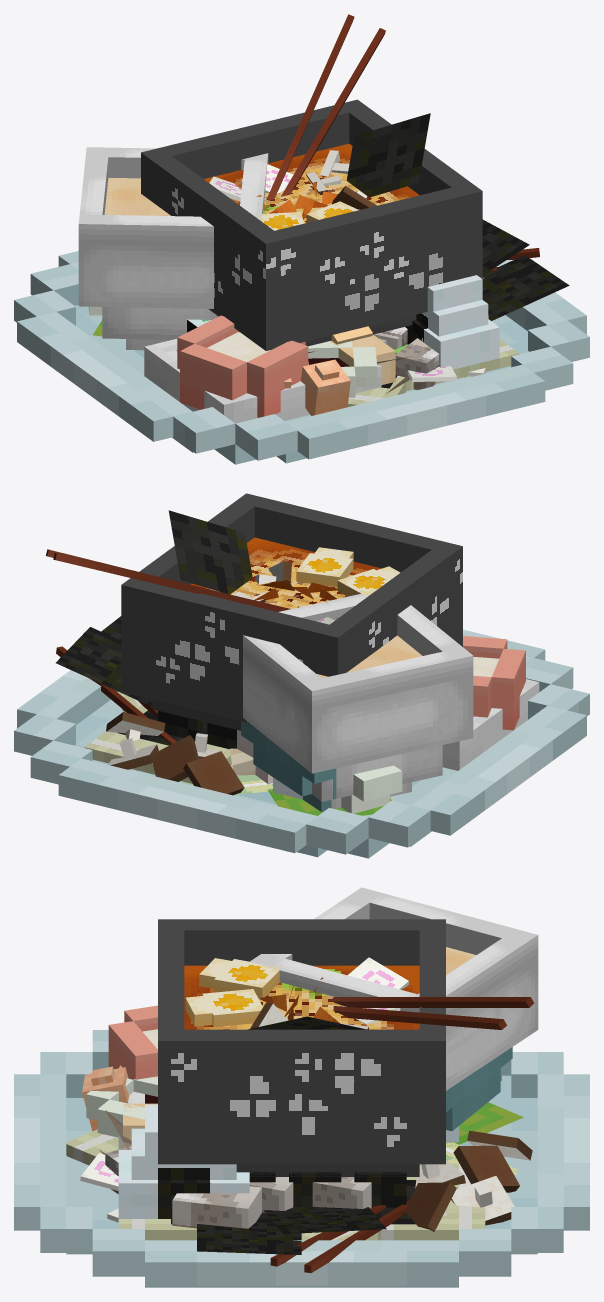
File: Food.gltf
3 views of the same model, one above another, from view 1: azimuth 30°, elevation 25°; view 2: azimuth 150°, elevation 25°; view 3: azimuth 270°, elevation 25° (orthographic). The views are drawn at different scales.
Visible parts, largest first — view 1: cube (×37), seaweed (×3), bambooMat (×4), naruto; view 2: cube (×41), seaweed (×3), bambooMat (×3), noodles; view 3: cube (×53), seaweed (×5), bambooMat (×2), naruto (×2).
Boxes of the visible parts, <box> form: cube (×37): <box>14,14,589,464</box>; seaweed (×3): <box>346,113,569,320</box>; bambooMat (×4): <box>144,339,519,423</box>; naruto: <box>407,366,456,381</box>; cube (×41): <box>14,493,589,858</box>; seaweed (×3): <box>56,510,391,815</box>; bambooMat (×3): <box>84,679,539,783</box>; noodles: <box>230,748,255,775</box>; cube (×53): <box>14,887,589,1287</box>; seaweed (×5): <box>171,1016,523,1254</box>; bambooMat (×2): <box>66,1129,485,1240</box>; naruto (×2): <box>80,957,408,1190</box>.
Size of the model in its own units: 1.45 by 0.7192 by 1.38.
Materials: 69 (69 with a texture image).
